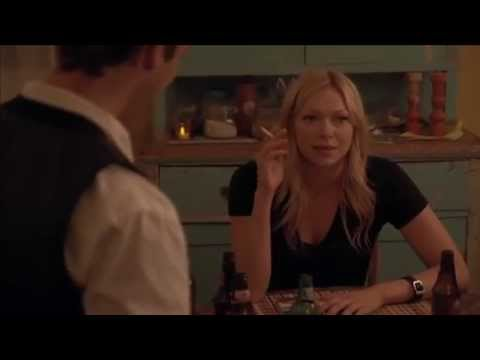cigarette: (255, 122, 278, 141)
